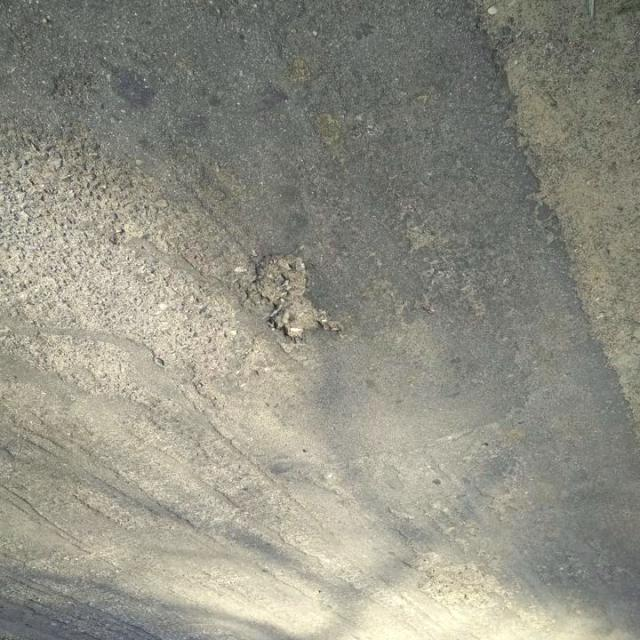pothole: (0, 118, 157, 288), (472, 0, 638, 143), (184, 219, 348, 359), (544, 158, 636, 314), (539, 323, 640, 388)
